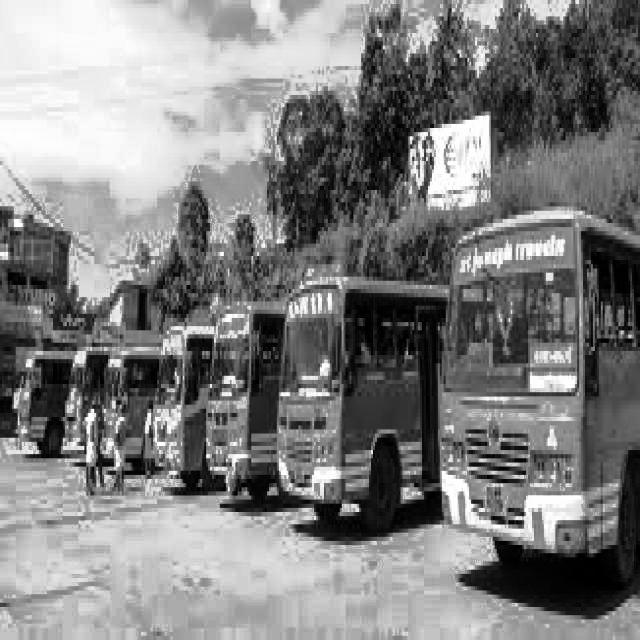Bus: (437, 201, 639, 609), (277, 248, 437, 518), (204, 293, 282, 532), (147, 307, 211, 493), (16, 325, 75, 474), (99, 329, 159, 473), (63, 325, 111, 492)
